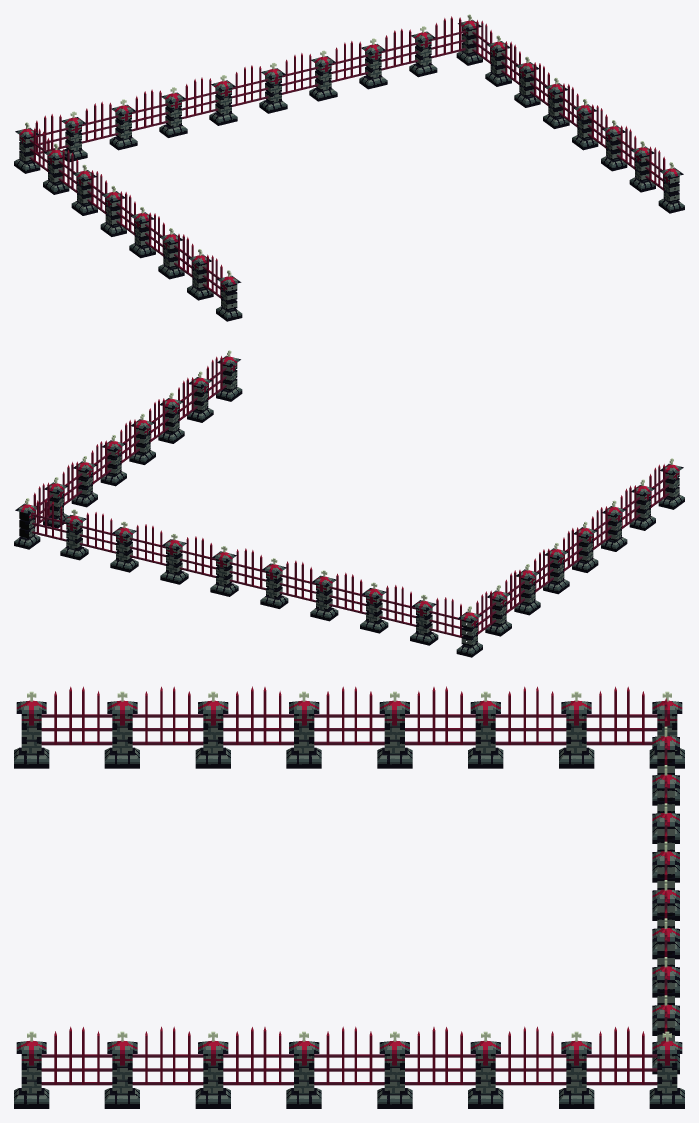
The model's file is Arena_fantasma.glb.
The picture shows the model from 3 angles, top to bottom: view 1: azimuth 30°, elevation 25°; view 2: azimuth 150°, elevation 25°; view 3: azimuth 270°, elevation 25°; orthographic projection. The views are drawn at different scales.
Visible parts, largest first — view 1: Arena; view 2: Arena; view 3: Arena.
Boxes of the visible parts, left/top/right/bottom form: Arena: left=14, top=14, right=684, bottom=321; Arena: left=14, top=350, right=684, bottom=657; Arena: left=14, top=686, right=684, bottom=1108.
Bounding box in the file's own units: 33 × 3.36 × 26.6.
Materials: 1 (1 with a texture image).
